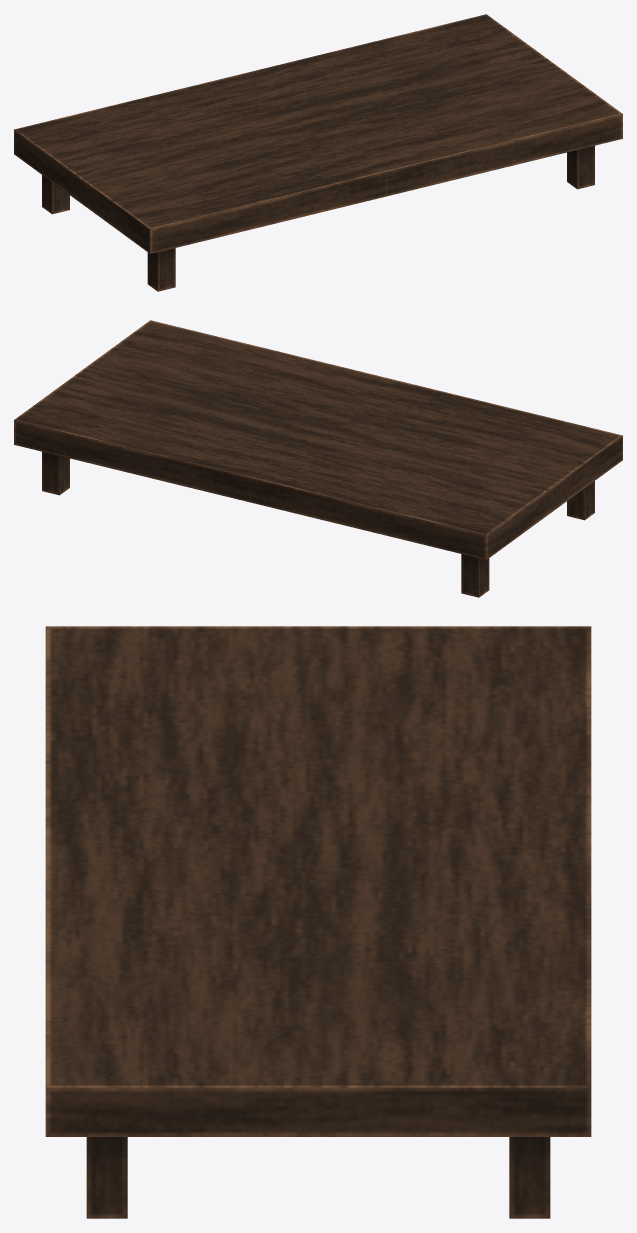
Rendered from dining_table_2x2_001.fbx.
3 renders of one model, top to bottom at view 1: azimuth 30°, elevation 25°; view 2: azimuth 150°, elevation 25°; view 3: azimuth 270°, elevation 25°, orthographic. The views are drawn at different scales.
Parts seen in each view (by area): view 1: dining_table_2x2.001; view 2: dining_table_2x2.001; view 3: dining_table_2x2.001.
Part boxes in pixels (x1,y1,x2,y2): dining_table_2x2.001: (14, 14, 622, 291); dining_table_2x2.001: (14, 320, 622, 597); dining_table_2x2.001: (45, 626, 591, 1218).
Size of the model in its own units: 400 by 60 by 200.
